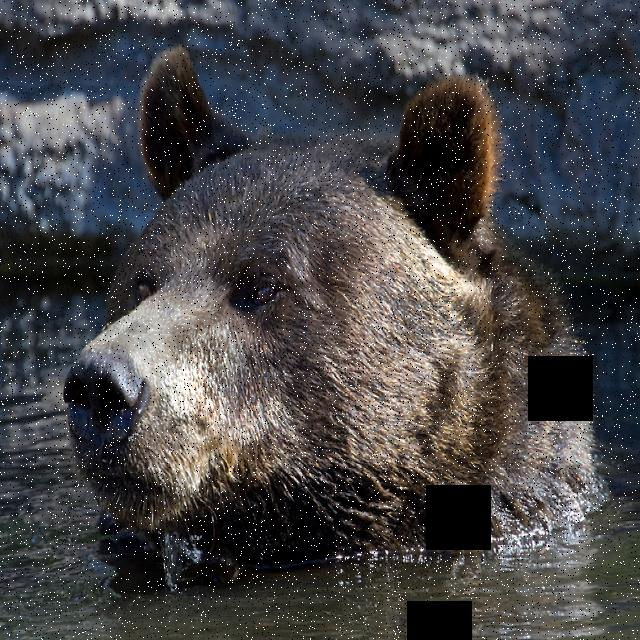Bear: (60, 46, 603, 595)
